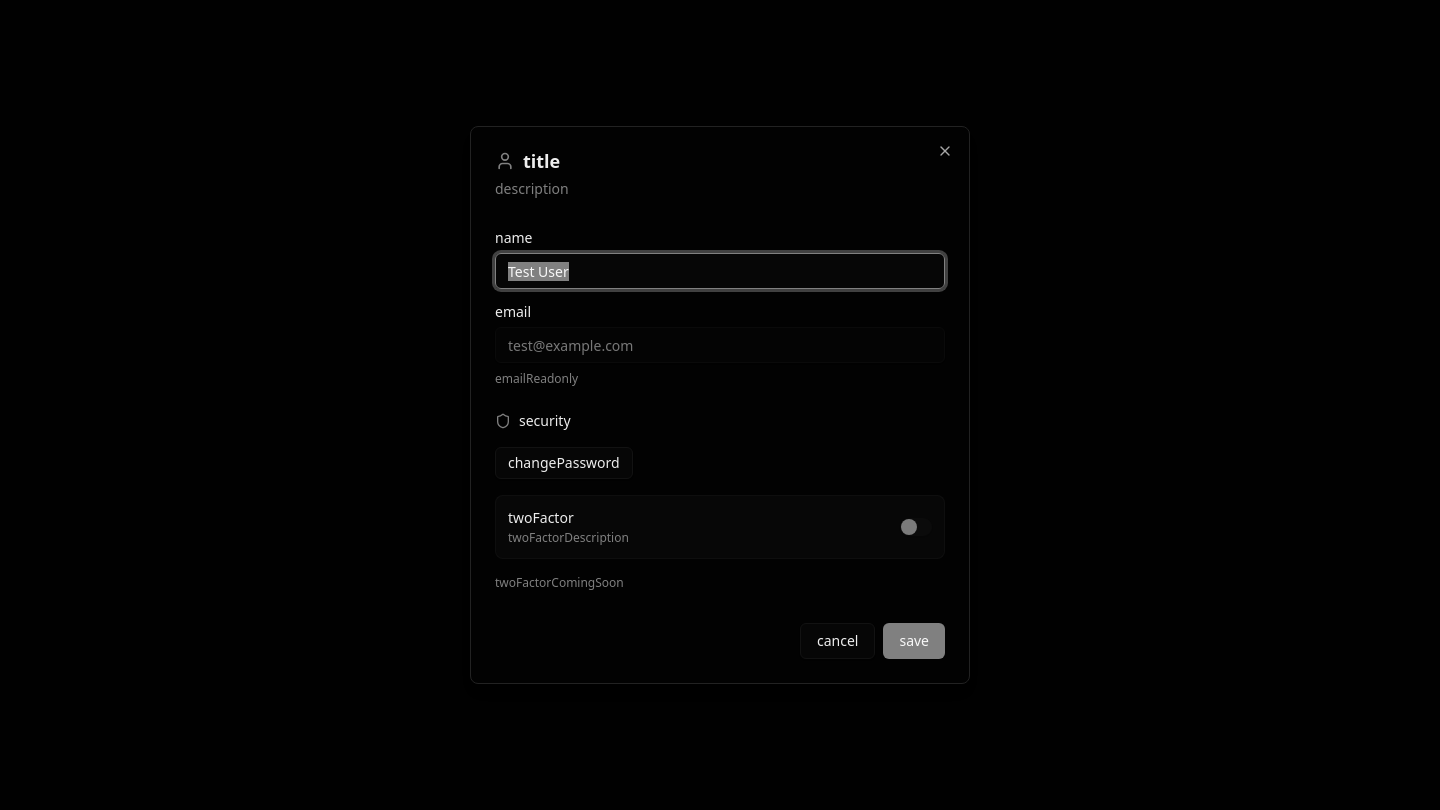
Test: ProfileDialog › should handle save error
Replace the text in the field showing "Test User" with "New Name" at point(720, 271), box [495, 253, 945, 289]
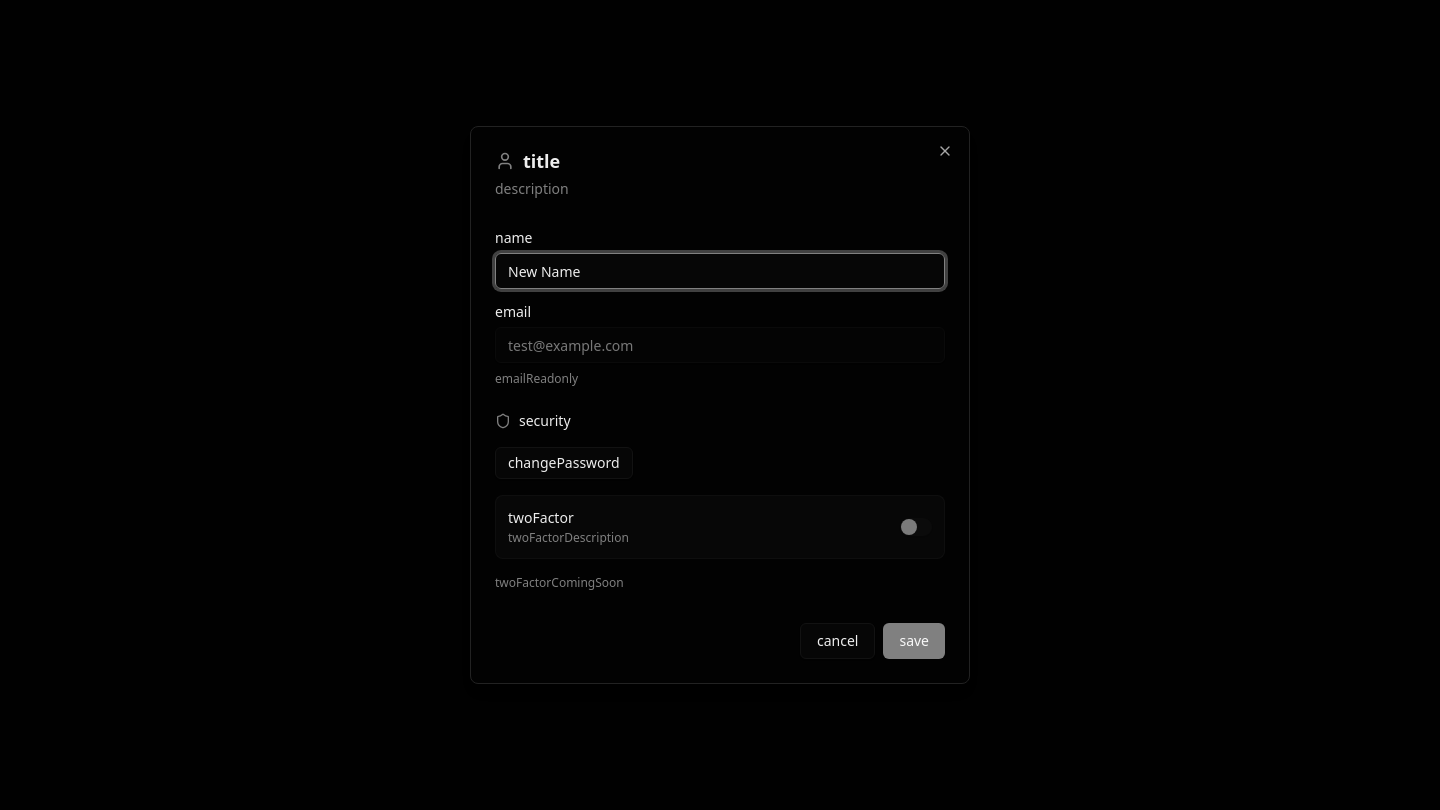
Click the button "save" at point(914, 641), box [883, 623, 945, 659]
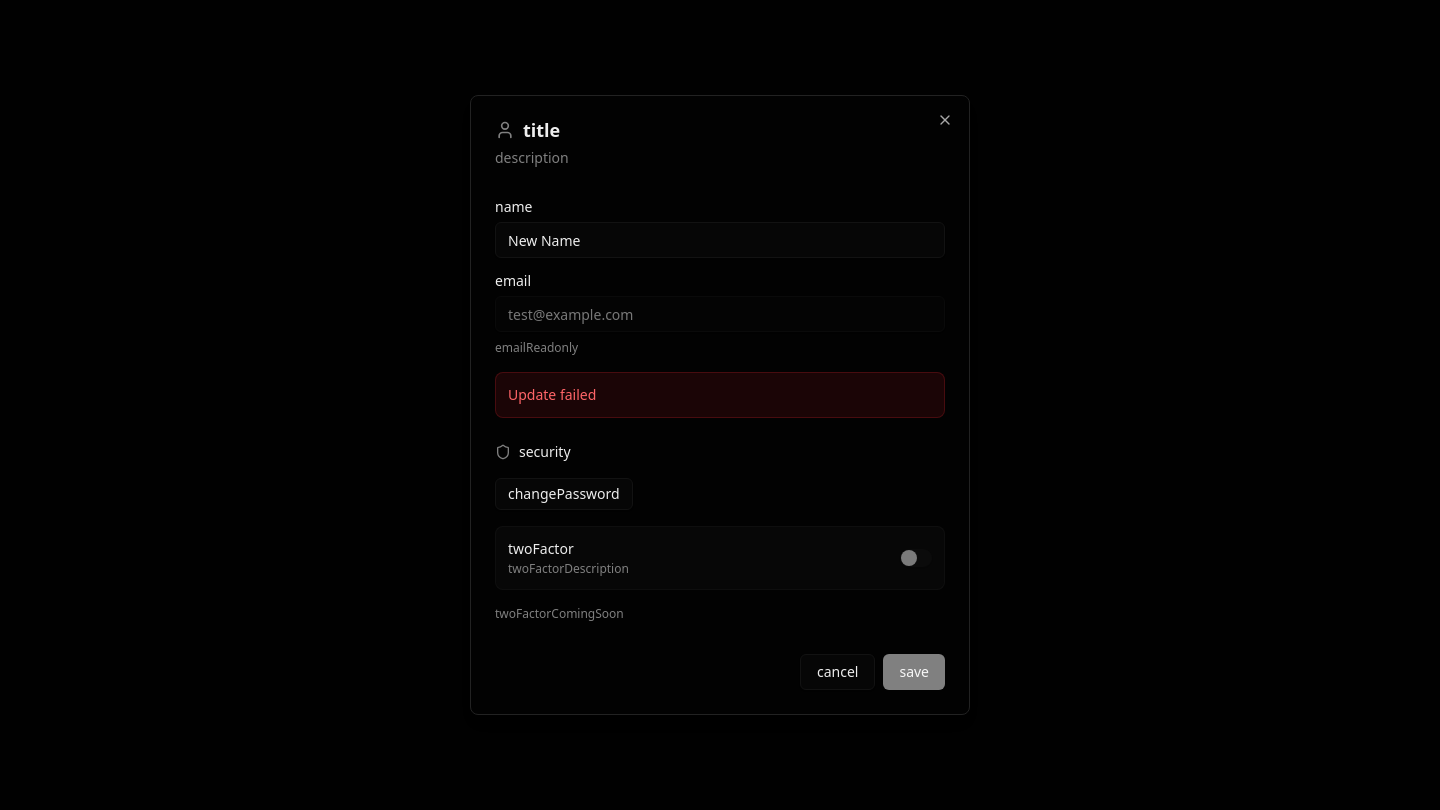
Result: the text "Update failed" is shown at [495, 372, 945, 418]
